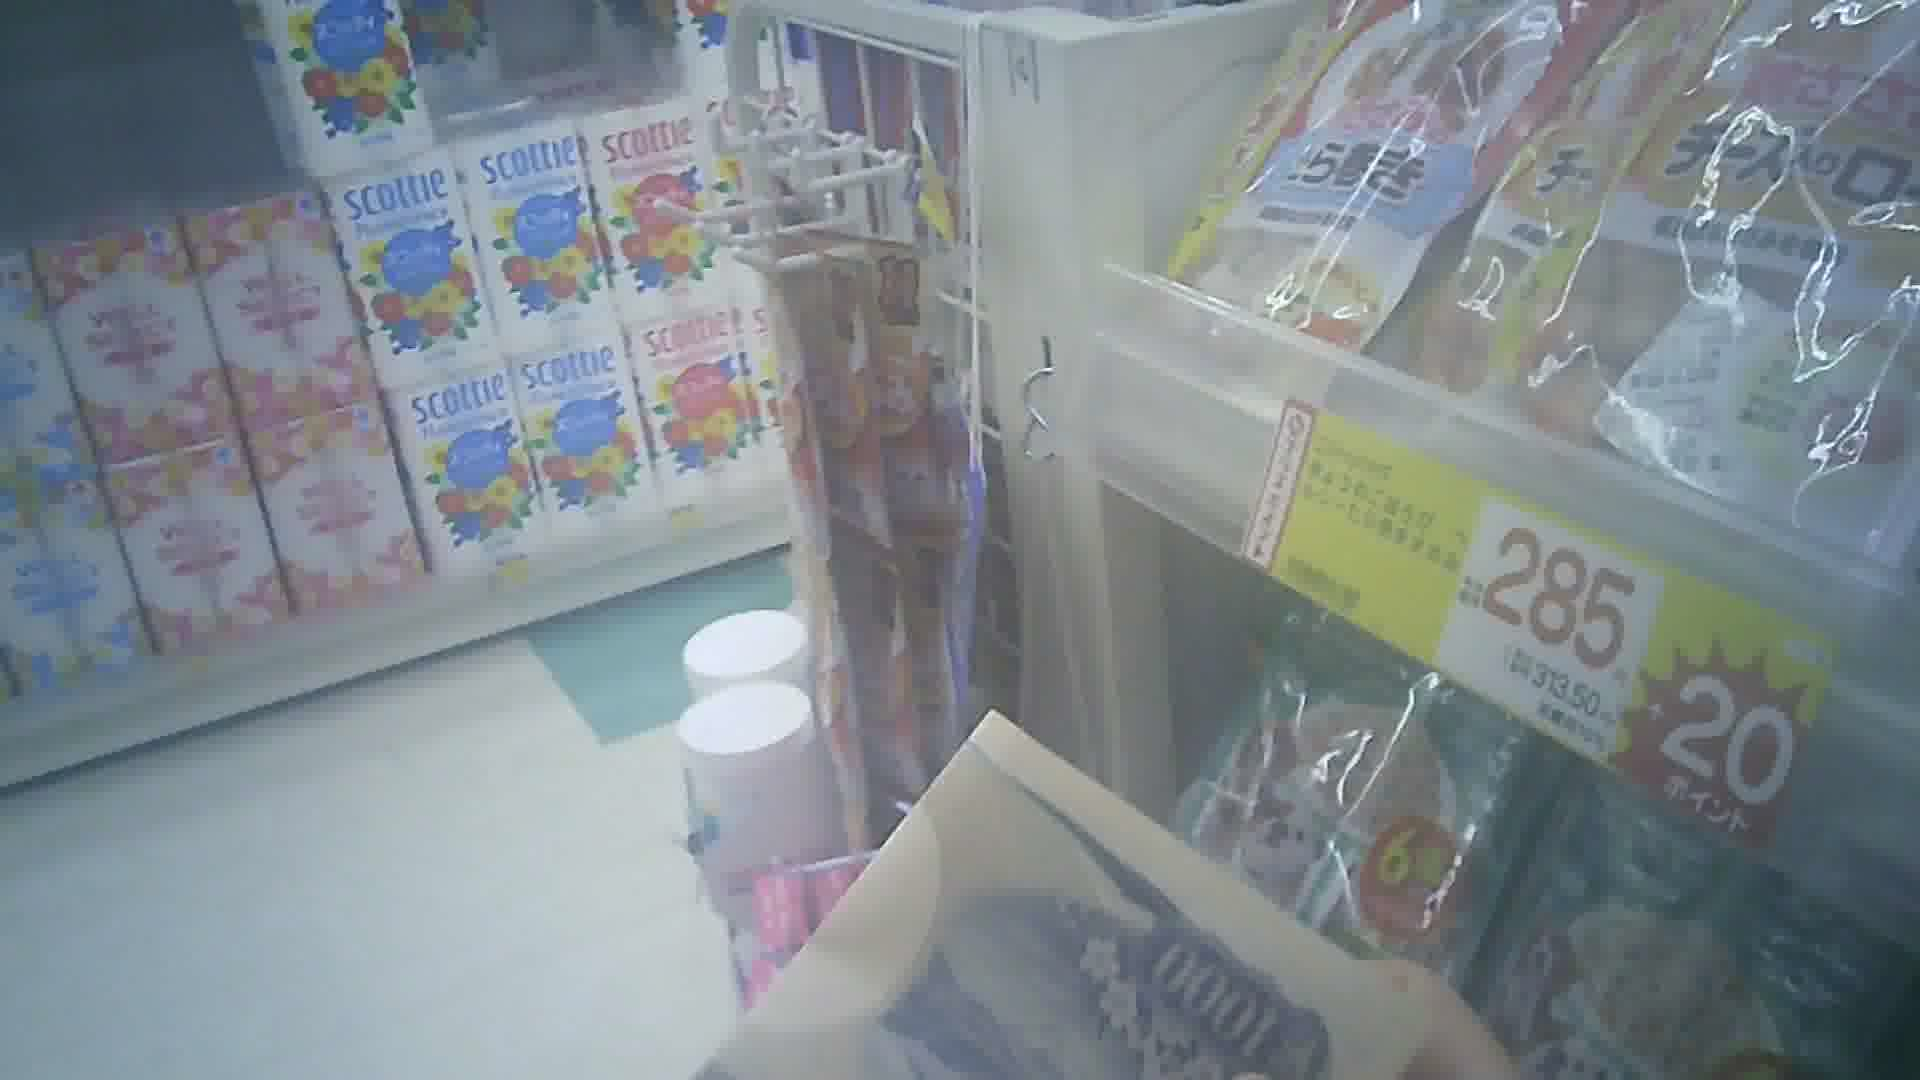1,000 Yen: (698, 702, 1353, 1079)
